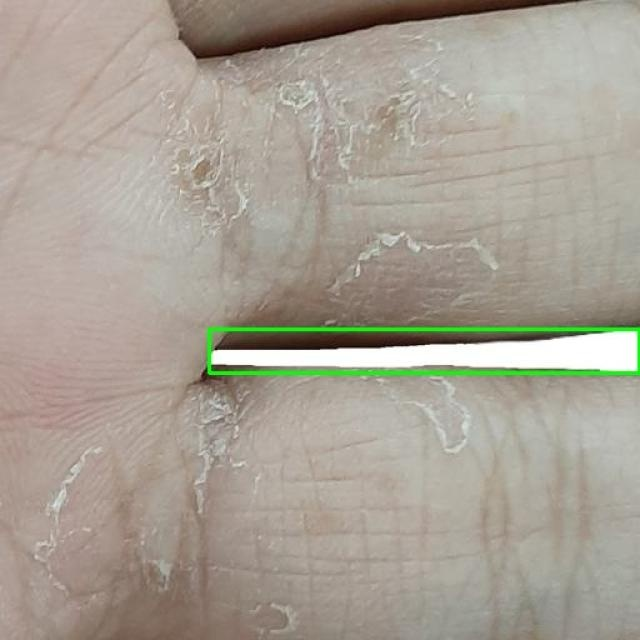Atopic Dermatitis: (209, 329, 639, 372)
